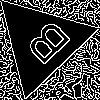B: (16, 18, 73, 74)
